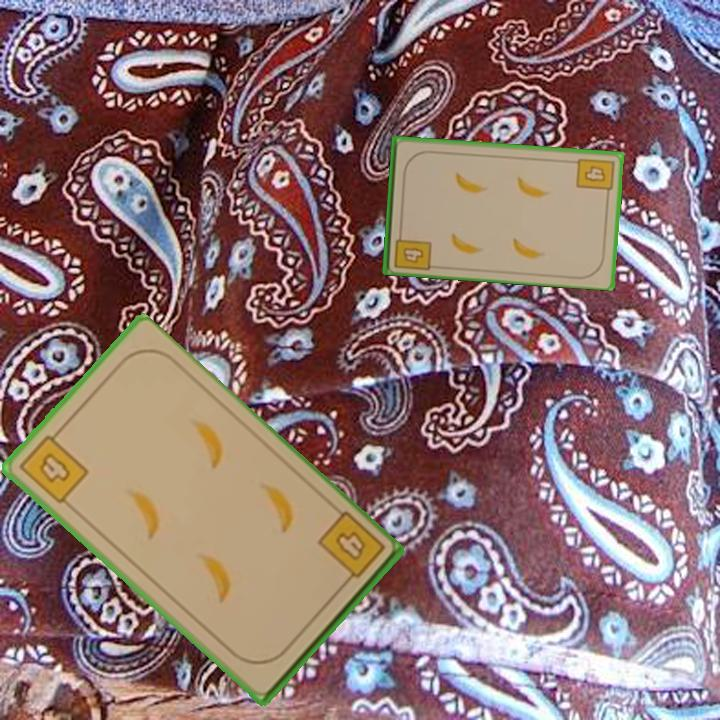4b: (15, 425, 92, 507), (313, 508, 388, 590), (390, 226, 434, 272), (573, 155, 617, 199)
